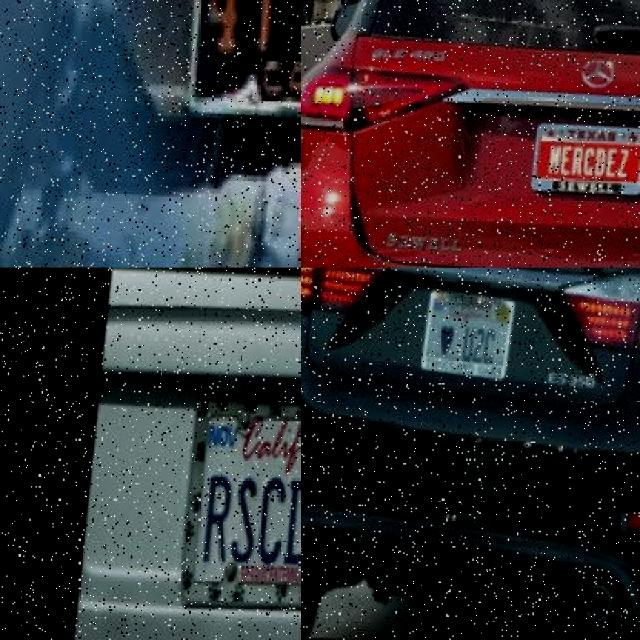licenseplate: (166, 378, 300, 632), (416, 288, 515, 395), (526, 128, 640, 203)
